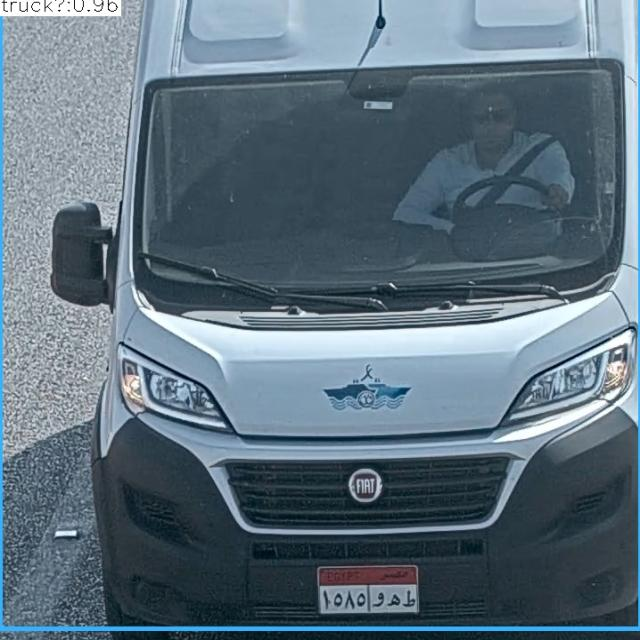windshield: (133, 78, 631, 299)
